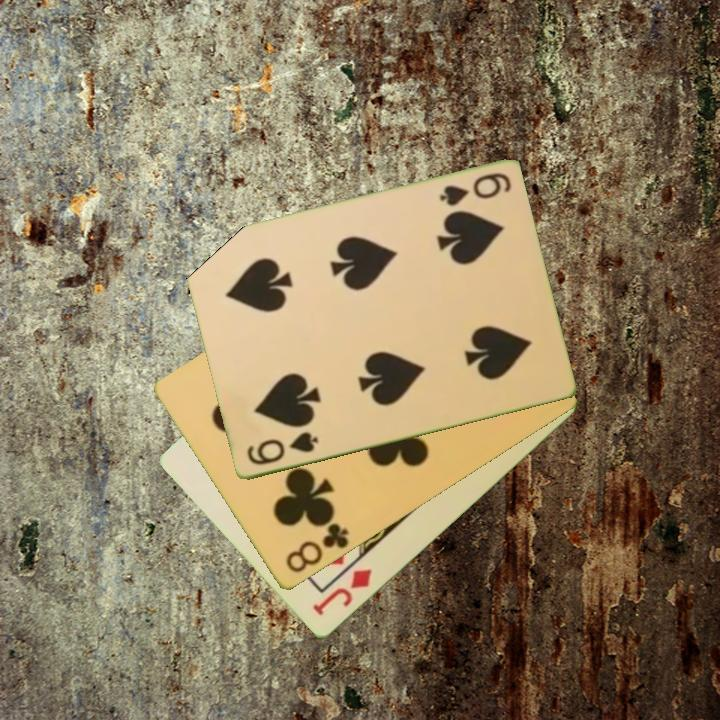6s: (435, 169, 514, 210), (243, 428, 321, 469)
8c: (282, 519, 352, 577)
Jd: (309, 565, 375, 620)
